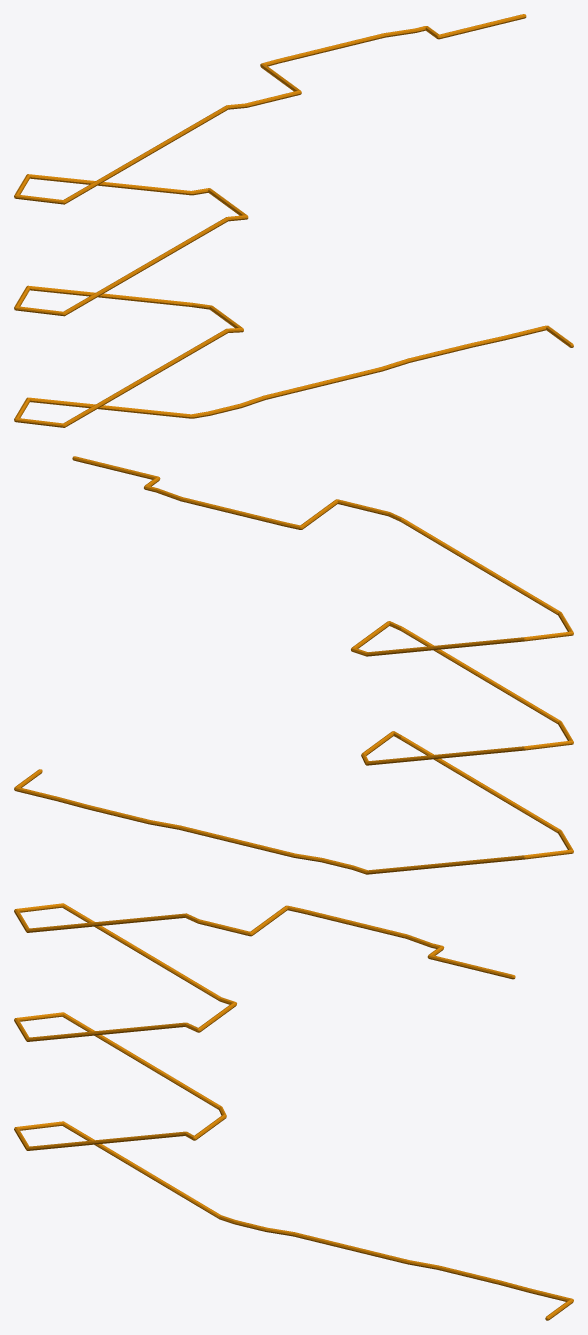
3 views of the same model, one above another, from view 1: azimuth 30°, elevation 25°; view 2: azimuth 150°, elevation 25°; view 3: azimuth 330°, elevation 25° (orthographic). The views are drawn at different scales.
Bounding box in the file's own units: 2595 × 1520 × 355.
